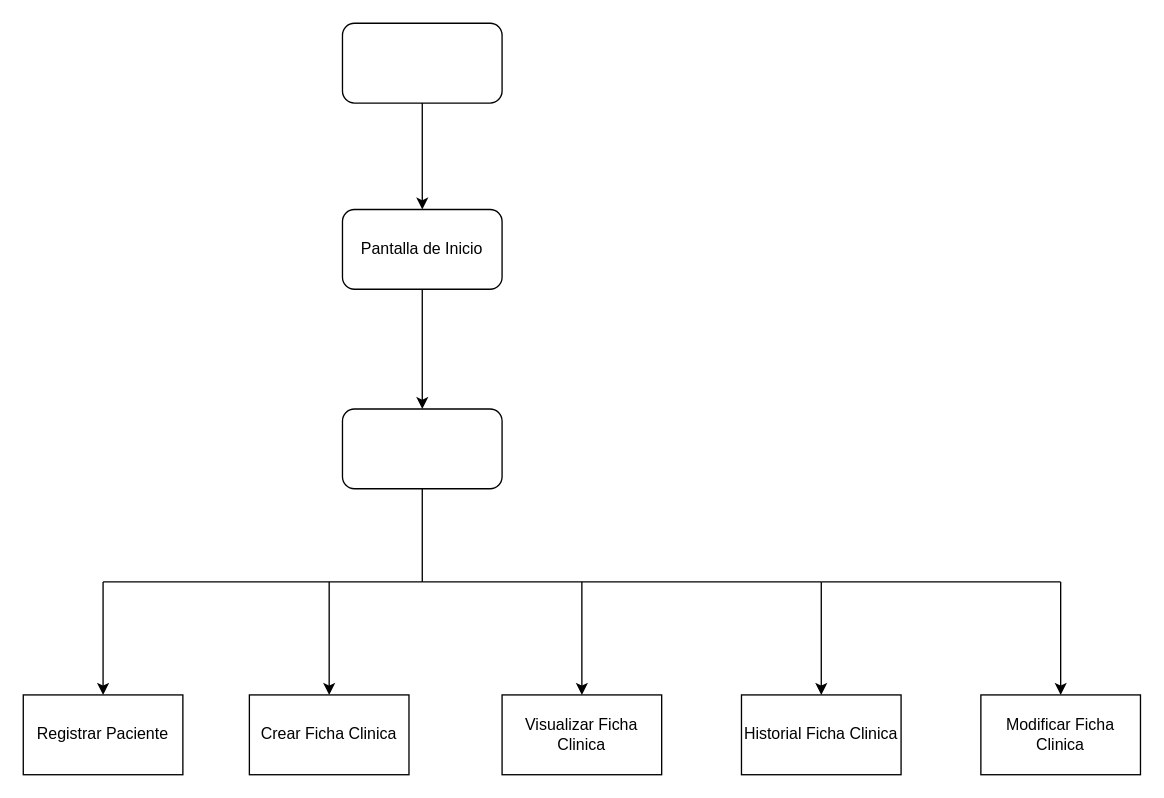
This 1164x798 diagram has some shape labels left out. The shapes that lost their labels are listed below. From the top down, each one's centre as x and y in pixels, then its label:
point 421,62: Control de Acceso
point 421,448: Gestion de Ficha Clinica
